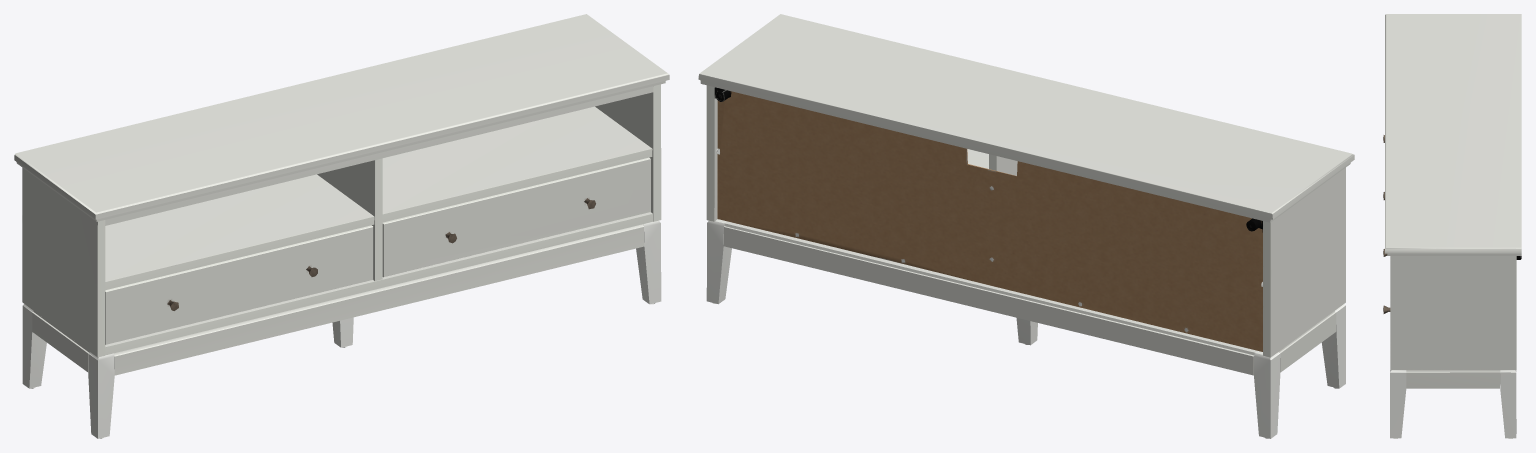
Rendered from 04 - IDANÄS TV bench - white 162x40x63 cm.glb.
The picture shows the model from 3 angles, left to right: view 1: azimuth 30°, elevation 25°; view 2: azimuth 150°, elevation 25°; view 3: azimuth 270°, elevation 25°; orthographic projection. The views are drawn at different scales.
Parts seen in each view (by area): view 1: 90487860-IDANÃ„S001; view 2: 90487860-IDANÃ„S001; view 3: 90487860-IDANÃ„S001.
Part boxes in pixels (x1,y1,x2,y2): 90487860-IDANÃ„S001: [14, 14, 669, 438]; 90487860-IDANÃ„S001: [698, 14, 1354, 438]; 90487860-IDANÃ„S001: [1383, 14, 1521, 438].
Size of the model in its own units: 1.62 by 0.626 by 0.4047.
1 material, 1 textured.
